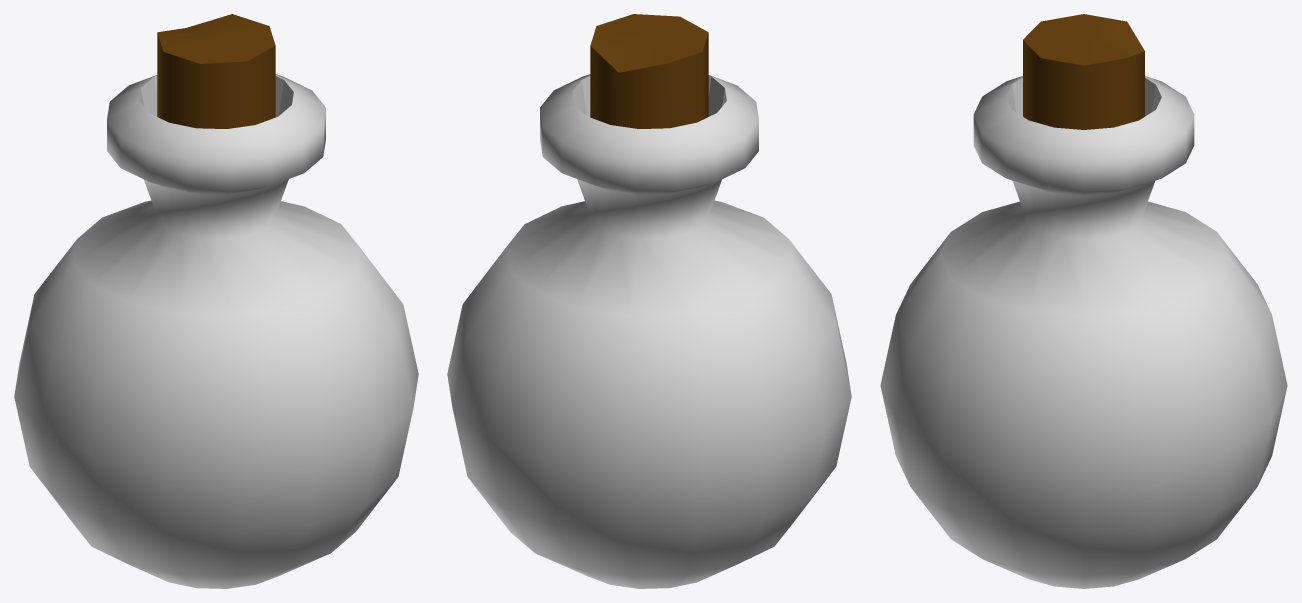
File: Health.FBX
3 renders of one model, left to right at view 1: azimuth 30°, elevation 25°; view 2: azimuth 150°, elevation 25°; view 3: azimuth 270°, elevation 25°, orthographic.
Parts seen in each view (by area): view 1: Bottle, cork; view 2: Bottle, cork; view 3: Bottle, cork.
Boxes of the visible parts, bbox=[...] form: Bottle: bbox=[14, 74, 418, 588]; cork: bbox=[157, 14, 275, 128]; Bottle: bbox=[447, 74, 851, 588]; cork: bbox=[590, 14, 708, 128]; Bottle: bbox=[880, 76, 1287, 588]; cork: bbox=[1023, 14, 1144, 129].
Bounding box in the file's own units: 0.3108 × 0.4467 × 0.3108.
